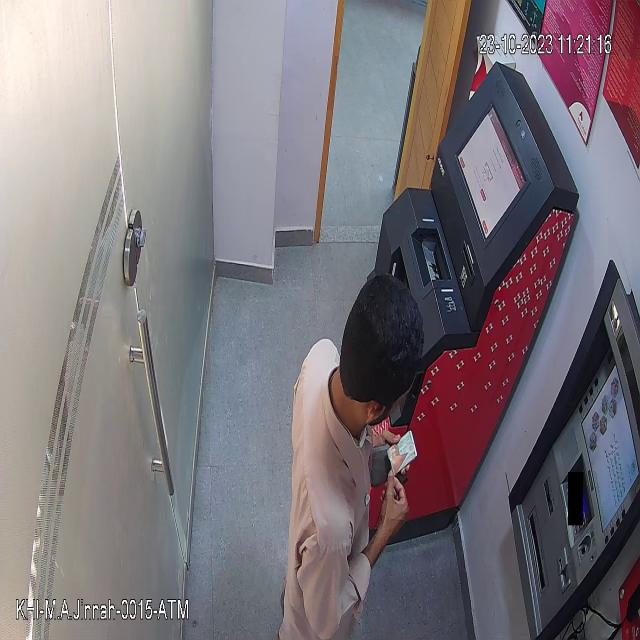atm-card: (382, 420, 424, 483)
